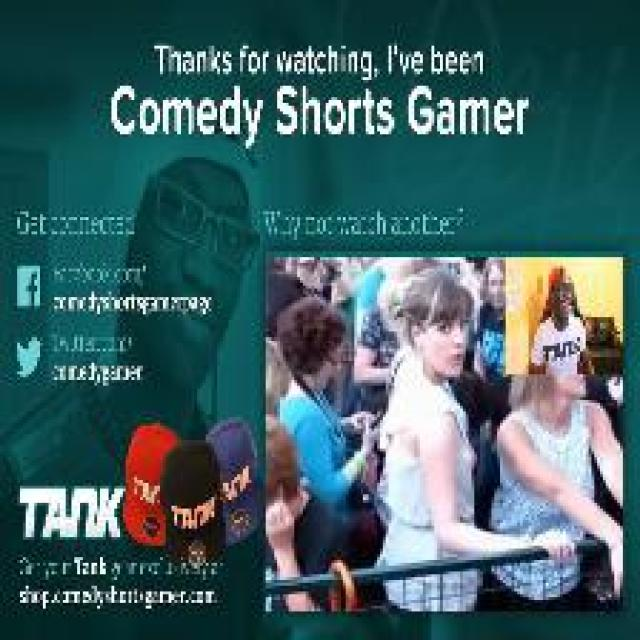other: (108, 409, 176, 541), (503, 253, 621, 319)
